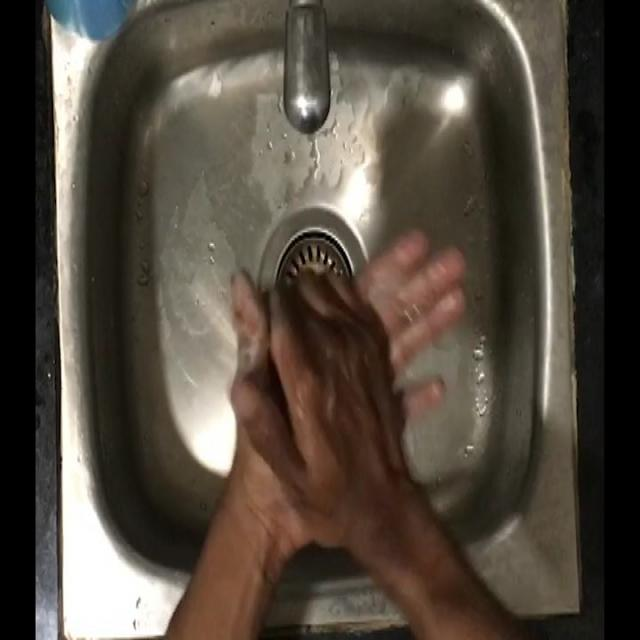step_5: (214, 219, 470, 554)
